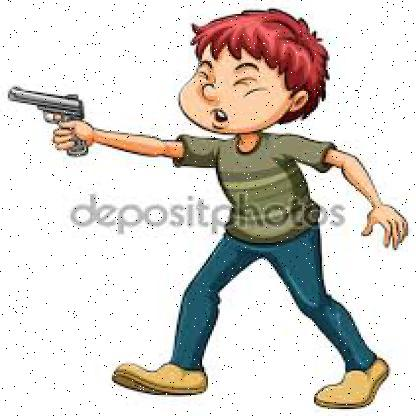pistol: (6, 84, 92, 157)
